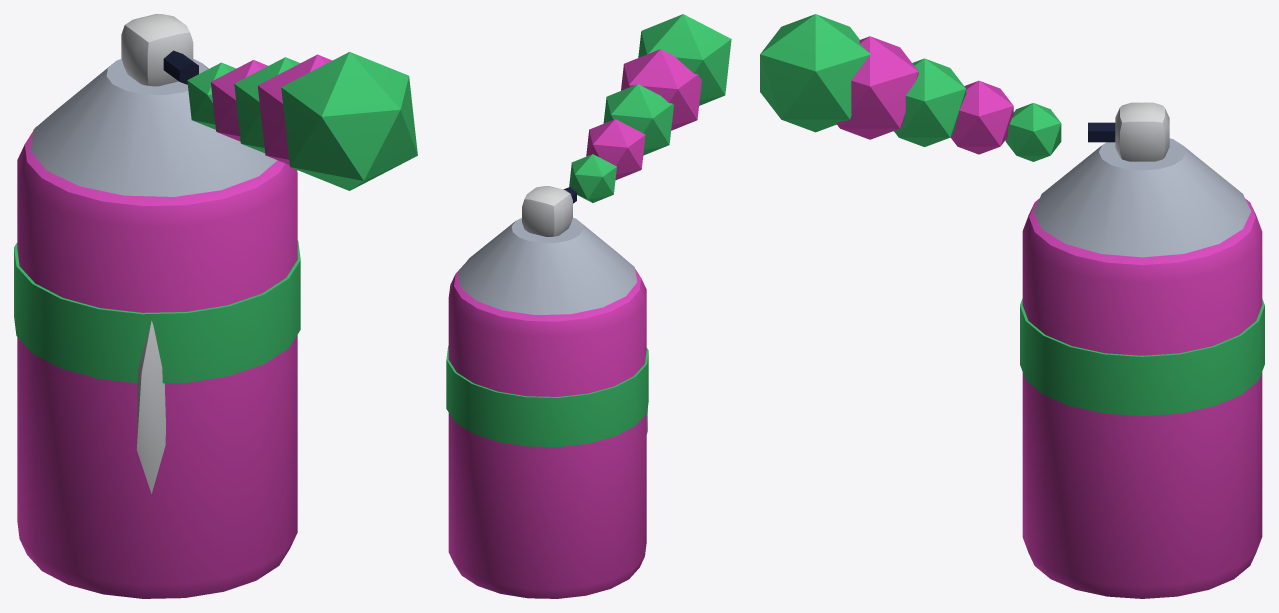
Rendered from lo_wskin_neon.glb.
3 views of the same model, side by side, from view 1: azimuth 30°, elevation 25°; view 2: azimuth 150°, elevation 25°; view 3: azimuth 270°, elevation 25° (orthographic). The views are drawn at different scales.
Parts seen in each view (by area): view 1: body; view 2: body; view 3: body.
Part boxes in pixels (bbox=[...]): body: bbox=[14, 14, 417, 598]; body: bbox=[446, 14, 731, 598]; body: bbox=[760, 14, 1264, 598].
Bounding box in the file's own units: 0.45 × 1.1 × 0.9271.
